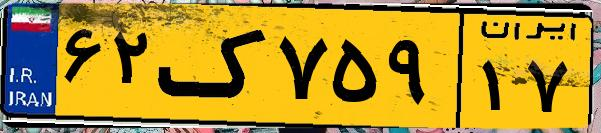1: (475, 38, 525, 113)
2: (110, 28, 158, 98)
5: (330, 28, 385, 110)
6: (57, 26, 110, 100)
7: (270, 28, 330, 110), (525, 38, 570, 115)
9: (385, 28, 445, 110)
ک: (158, 12, 270, 120)
